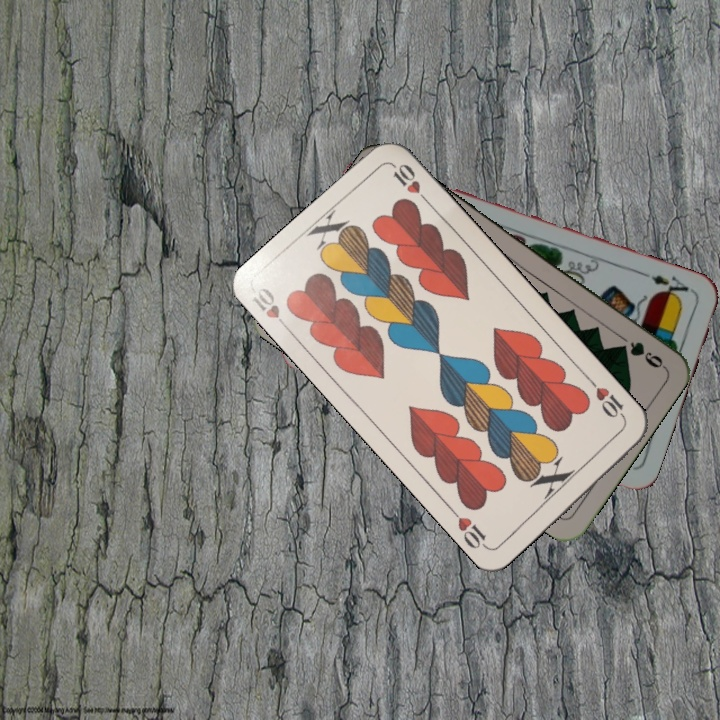EA: (647, 270, 696, 303)
G9: (615, 331, 667, 371)
H10: (248, 283, 294, 335), (585, 375, 629, 424)
